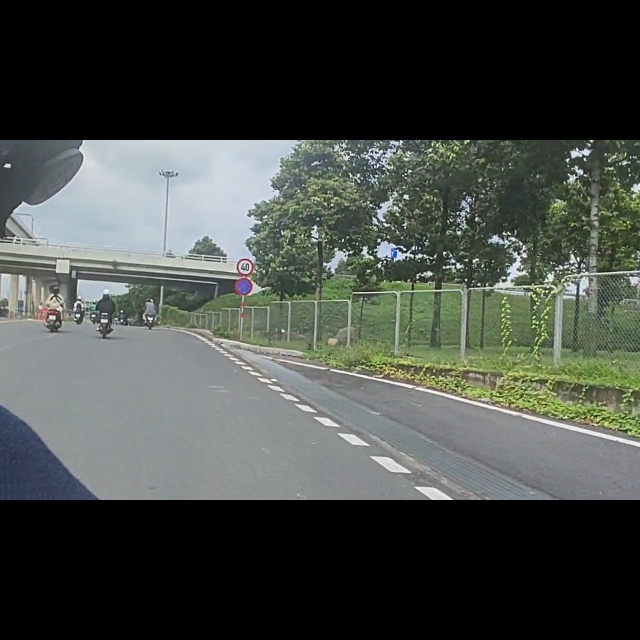bien_cam: (237, 210, 255, 243), (235, 245, 253, 276)
